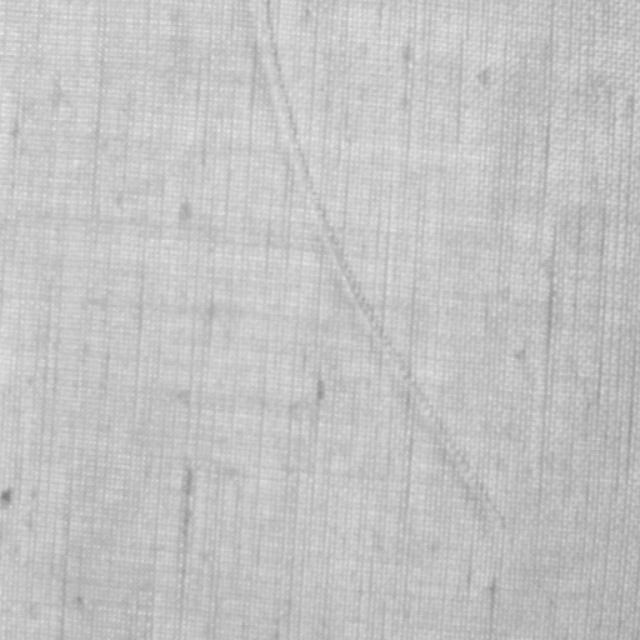objects: (264, 0, 508, 524)
